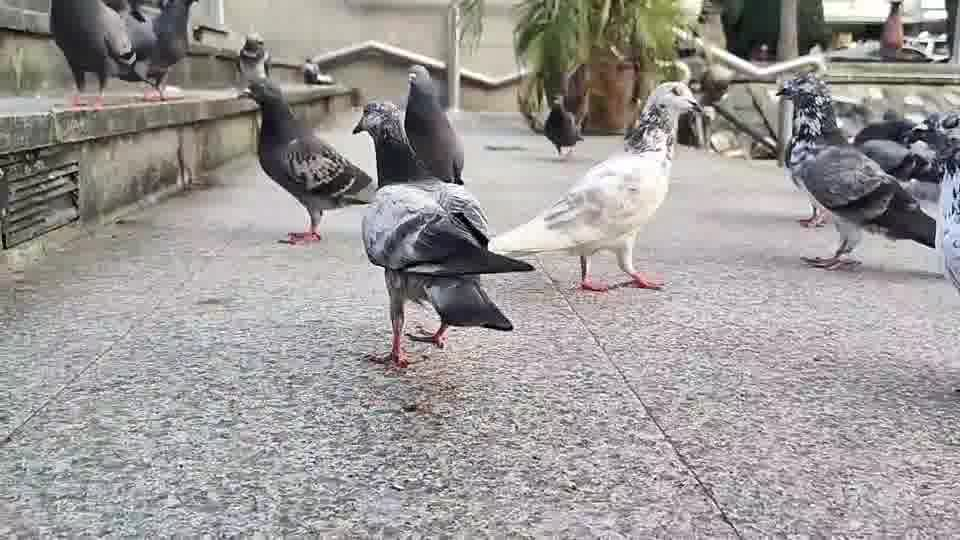Pigeon: (351, 100, 534, 369), (489, 79, 706, 292), (774, 71, 939, 272), (235, 77, 375, 245), (774, 71, 849, 228), (47, 0, 137, 111), (112, 0, 198, 101), (402, 63, 465, 185), (542, 62, 588, 157)
